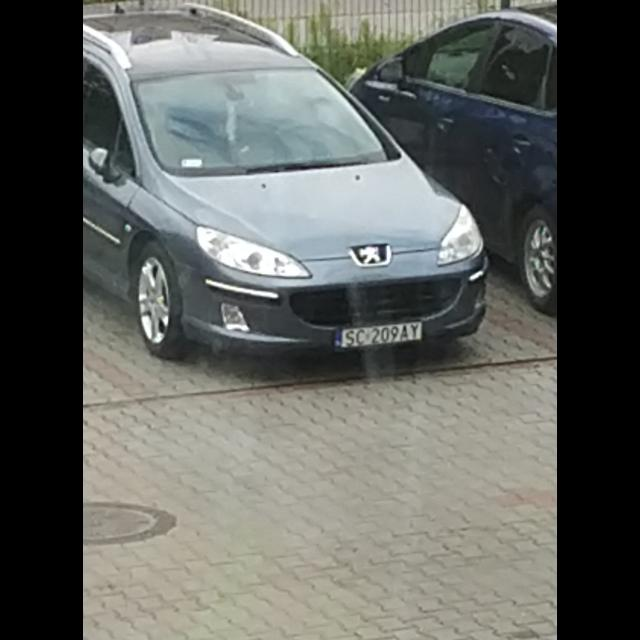pl_license_plate: (334, 322, 422, 346)
